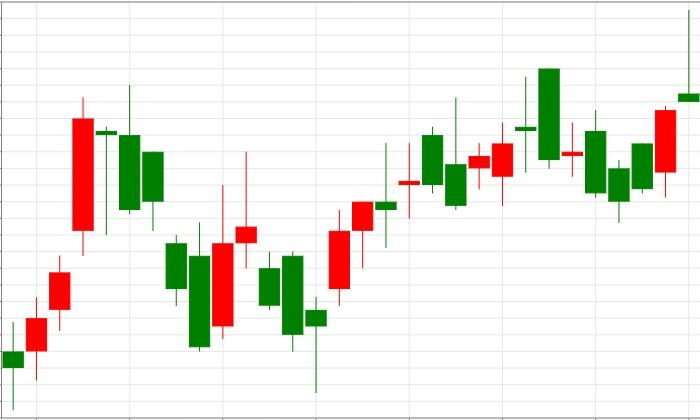evening_star_fall: (3, 85, 141, 410)
